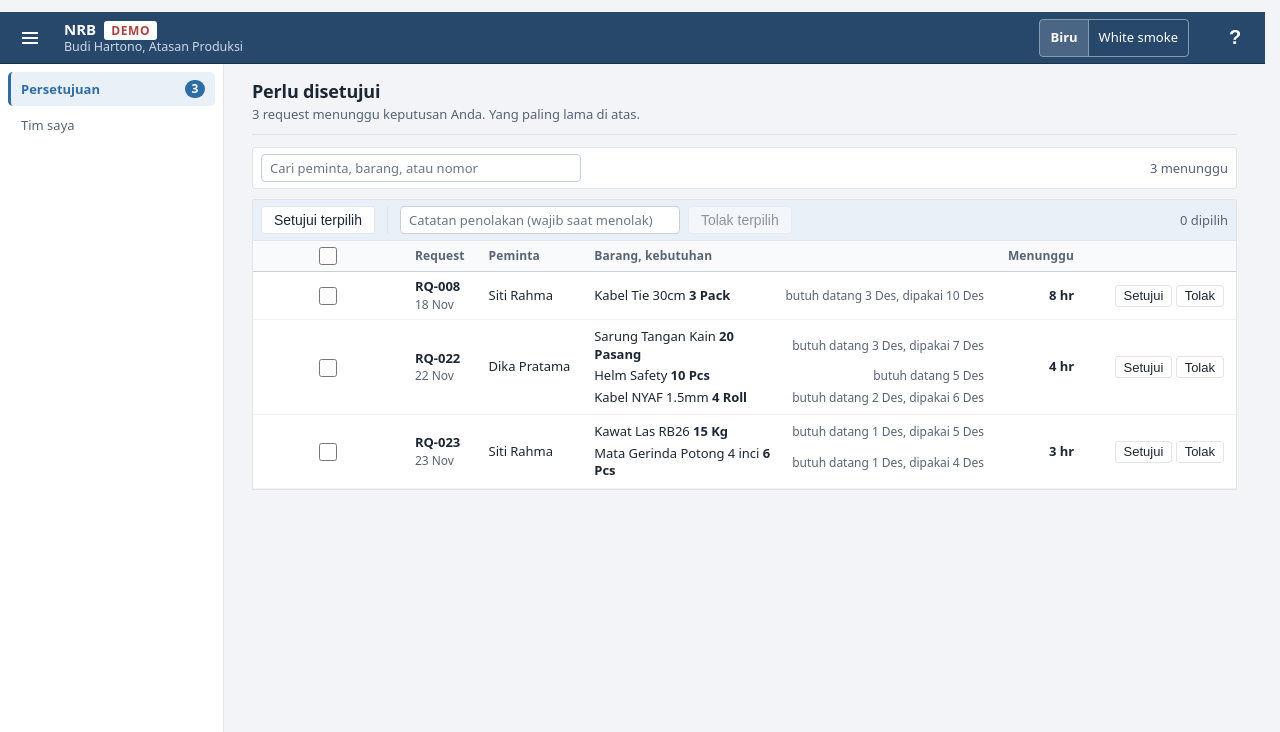
it: Atasan desktop: tabel persetujuan › pilih semua lalu Setujui terpilih menyetujui semuanya
Expected: the button "Persetujuan 3" is shown, [8,72,215,106]
Click the checkbox named "Pilih semua yang tampil": (328, 256) [319,247,337,265]
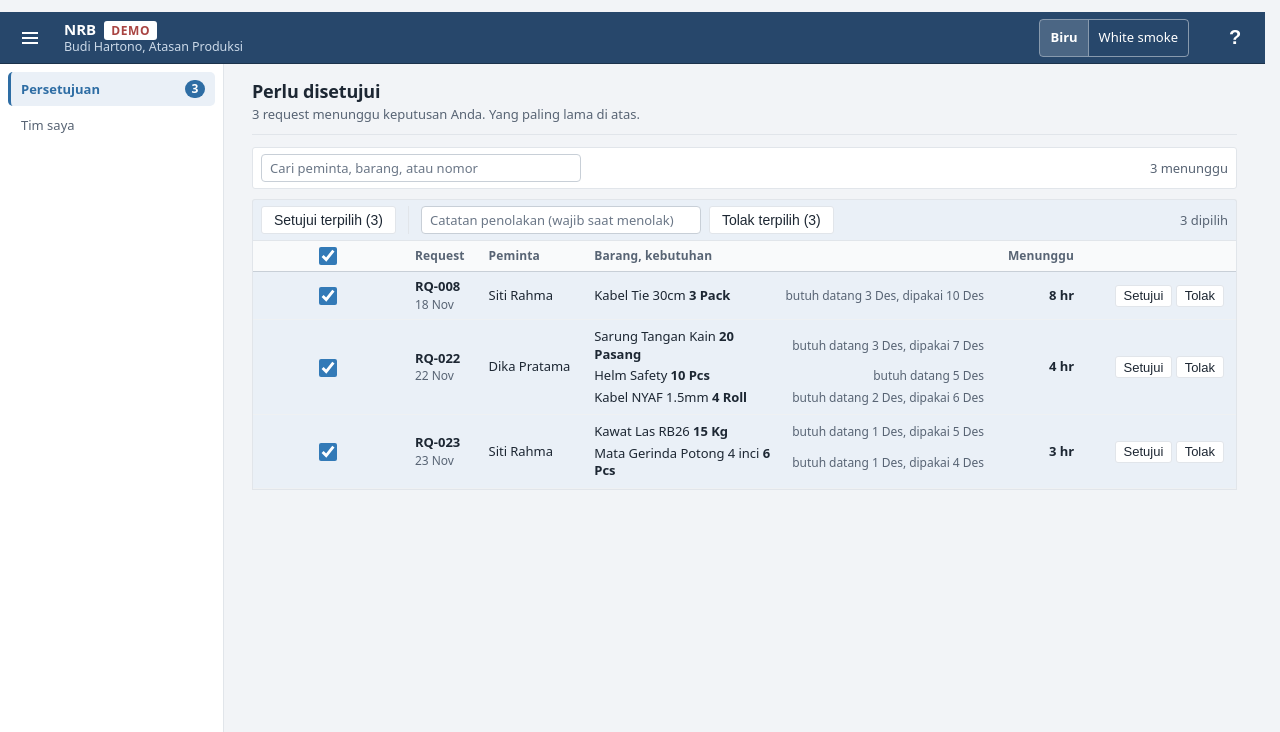
Click the button "Setujui terpilih (3)": (328, 220) [261,206,396,234]
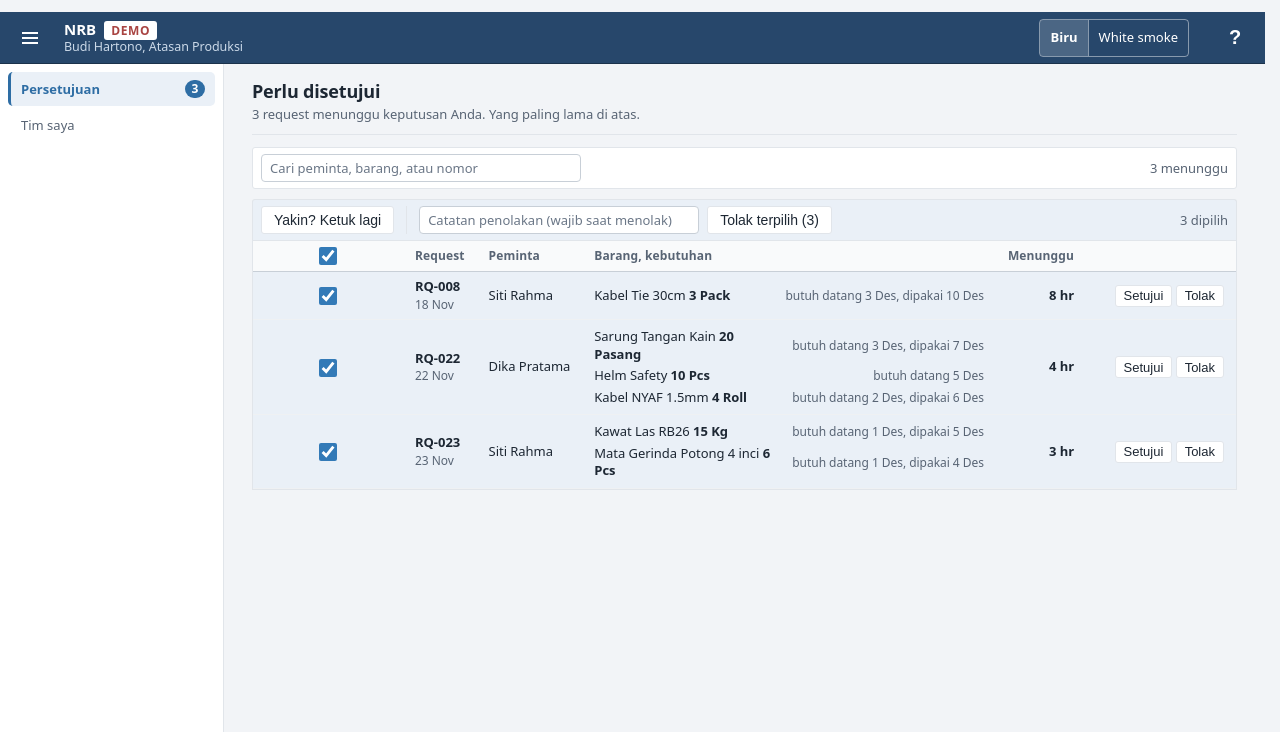
Click the button "Yakin? Ketuk lagi": (328, 220) [261,206,394,234]
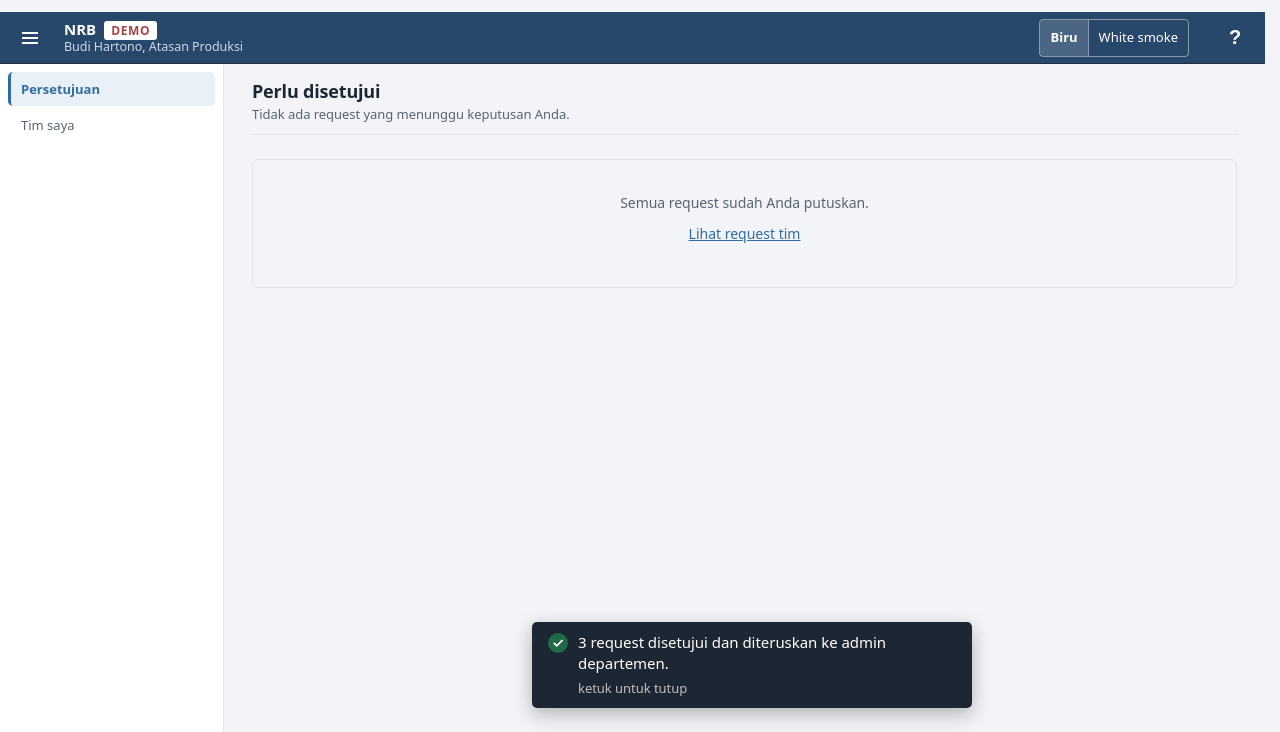
Expected: no rows are shown
Expected: the text "Semua request sudah Anda putuskan" is shown, [620,193,869,212]
